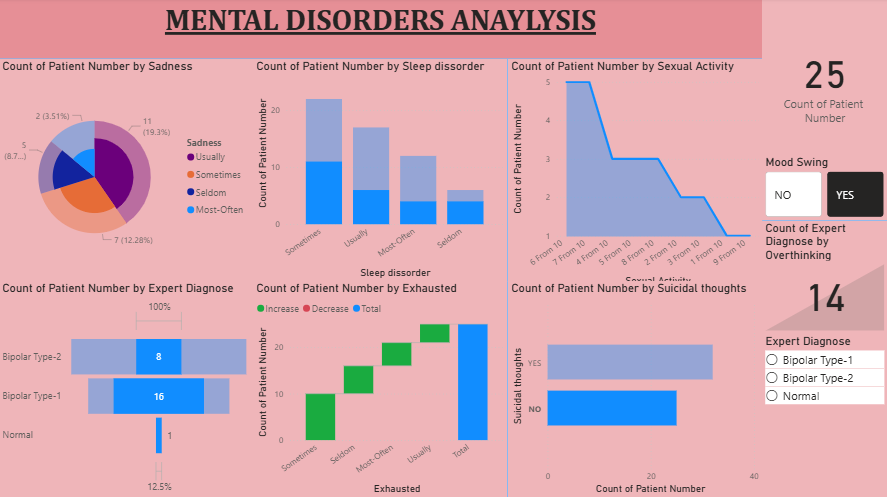

What the dashboard file says about the page in this screenshot:
{"tool":"powerbi","page":{"name":"Page 1","canvas":[1280,720],"ordinal":0},"visuals":[{"type":"pieChart","fields":{"Category":["mental_disorders_dataset (2).Sadness"],"Y":["CountNonNull(mental_disorders_dataset (2).Patient Number)"]},"box":[0,87.3,366.2,320.8],"z":0},{"type":"funnel","fields":{"Category":["mental_disorders_dataset (2).Expert Diagnose"],"Y":["CountNonNull(mental_disorders_dataset (2).Patient Number)"]},"box":[0,408.2,366.2,312.4],"z":1},{"type":"clusteredColumnChart","fields":{"Category":["mental_disorders_dataset (2).Sleep dissorder"],"Y":["CountNonNull(mental_disorders_dataset (2).Patient Number)"]},"box":[366.2,87.3,366.2,320.8],"z":2},{"type":"waterfallChart","fields":{"Category":["mental_disorders_dataset (2).Exhausted"],"Y":["CountNonNull(mental_disorders_dataset (2).Patient Number)"]},"box":[366.2,408.2,366.2,312.4],"z":3},{"type":"stackedAreaChart","fields":{"Y":["CountNonNull(mental_disorders_dataset (2).Patient Number)"],"Category":["mental_disorders_dataset (2).Sexual Activity"]},"box":[732.4,87.3,366.2,332.6],"z":4},{"type":"clusteredBarChart","fields":{"Category":["mental_disorders_dataset (2).Suicidal thoughts"],"Y":["CountNonNull(mental_disorders_dataset (2).Patient Number)"]},"box":[732.4,408.2,366.2,312.4],"z":5},{"type":"textbox","box":[0,0,1098.6,87.3],"z":6},{"type":"card","fields":{"Values":["CountNonNull(mental_disorders_dataset (2).Patient Number)"]},"box":[1098.6,0,181.4,226.8],"z":7},{"type":"advancedSlicerVisual","fields":{"Values":["mental_disorders_dataset (2).Mood Swing"]},"box":[1098.6,226.8,181.4,94.1],"z":8},{"type":"kpi","fields":{"TrendLine":["mental_disorders_dataset (2).Overthinking"],"Indicator":["CountNonNull(mental_disorders_dataset (2).Expert Diagnose)"]},"box":[1098.6,320.8,181.4,162.9],"z":9},{"type":"listSlicer","fields":{"Values":["mental_disorders_dataset (2).Expert Diagnose"]},"box":[1098.6,483.8,181.4,236.9],"z":10}]}

Visuals, with their boxes in screenshot pixels (x1, y1, x2, y2), scaled from the page's 1280x720 canvas onto the 887x497 screenshot:
pieChart - mental_disorders_dataset (2).Sadness x CountNonNull(mental_disorders_dataset (2).Patient Number): {"left": 0, "top": 60, "right": 254, "bottom": 282}
funnel - mental_disorders_dataset (2).Expert Diagnose x CountNonNull(mental_disorders_dataset (2).Patient Number): {"left": 0, "top": 282, "right": 254, "bottom": 496}
clusteredColumnChart - mental_disorders_dataset (2).Sleep dissorder x CountNonNull(mental_disorders_dataset (2).Patient Number): {"left": 254, "top": 60, "right": 508, "bottom": 282}
waterfallChart - mental_disorders_dataset (2).Exhausted x CountNonNull(mental_disorders_dataset (2).Patient Number): {"left": 254, "top": 282, "right": 508, "bottom": 496}
stackedAreaChart - CountNonNull(mental_disorders_dataset (2).Patient Number) x mental_disorders_dataset (2).Sexual Activity: {"left": 508, "top": 60, "right": 761, "bottom": 290}
clusteredBarChart - mental_disorders_dataset (2).Suicidal thoughts x CountNonNull(mental_disorders_dataset (2).Patient Number): {"left": 508, "top": 282, "right": 761, "bottom": 496}
textbox: {"left": 0, "top": 0, "right": 761, "bottom": 60}
card - CountNonNull(mental_disorders_dataset (2).Patient Number): {"left": 761, "top": 0, "right": 886, "bottom": 157}
advancedSlicerVisual - mental_disorders_dataset (2).Mood Swing: {"left": 761, "top": 157, "right": 886, "bottom": 222}
kpi - mental_disorders_dataset (2).Overthinking x CountNonNull(mental_disorders_dataset (2).Expert Diagnose): {"left": 761, "top": 221, "right": 886, "bottom": 334}
listSlicer - mental_disorders_dataset (2).Expert Diagnose: {"left": 761, "top": 334, "right": 886, "bottom": 496}
